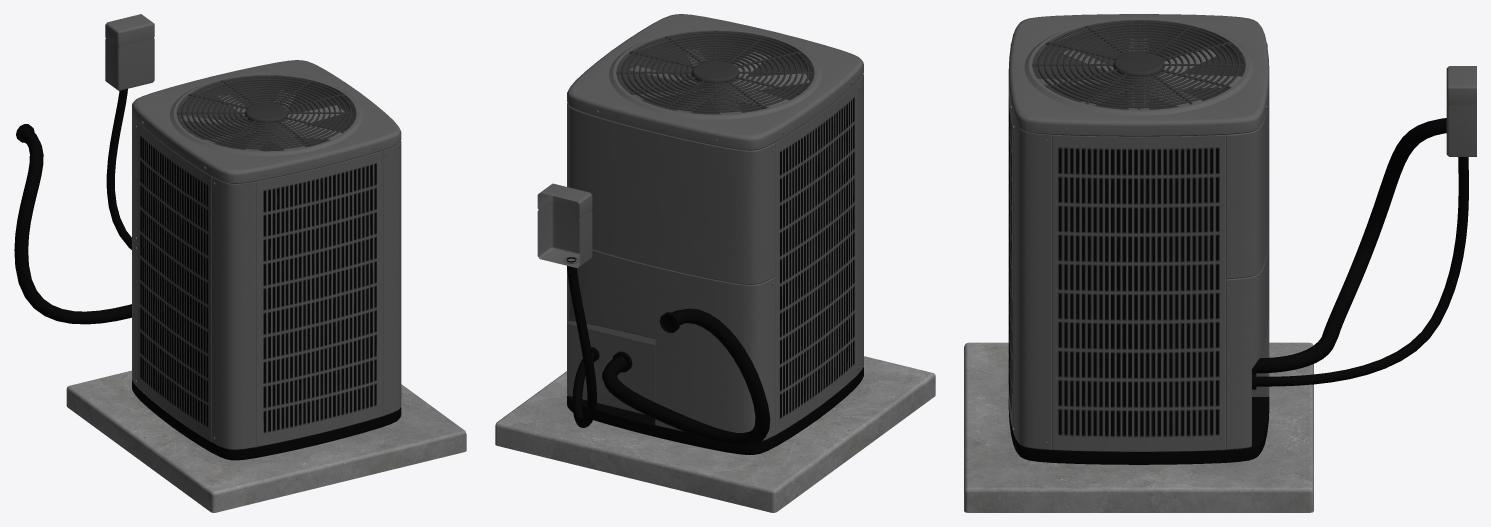
File: Air_Conditioner_3A.fbx
The picture shows the model from 3 angles, left to right: view 1: azimuth 30°, elevation 25°; view 2: azimuth 150°, elevation 25°; view 3: azimuth 270°, elevation 25°; orthographic projection. The views are drawn at different scales.
Parts seen in each view (by area): view 1: body_main, base, wire_and_pipe, fan; view 2: body_main, base, wire_and_pipe, fan; view 3: body_main, base, wire_and_pipe, fan.
Boxes of the visible parts, x1,y1,x2,y2 form: body_main: (132, 60, 401, 460); base: (66, 370, 466, 512); wire_and_pipe: (14, 14, 154, 324); fan: (180, 90, 344, 150); body_main: (567, 14, 863, 454); base: (495, 356, 935, 512); wire_and_pipe: (537, 183, 770, 447); fan: (629, 49, 809, 114); body_main: (1008, 14, 1269, 464); base: (964, 342, 1313, 512); wire_and_pipe: (1252, 66, 1476, 389); fan: (1038, 37, 1241, 109).
Size of the model in its own units: 93.03 by 102 by 126.
Materials: 1 (1 with a texture image).
